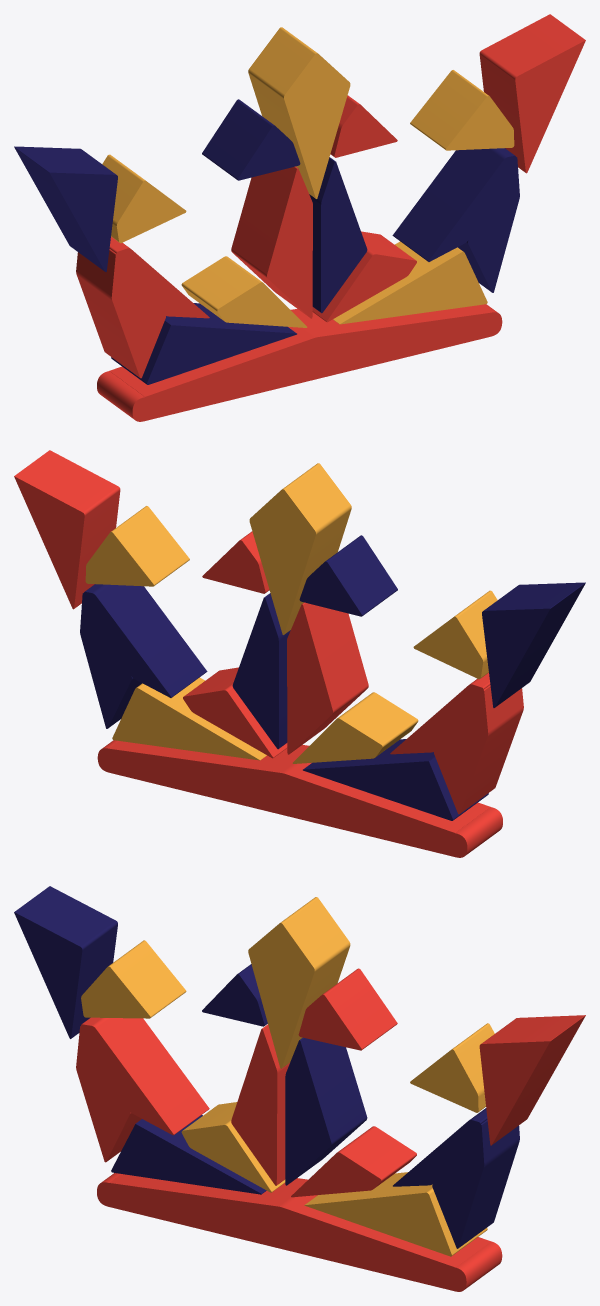
File: QHacksCrown.gltf
3 renders of one model, top to bottom at view 1: azimuth 30°, elevation 25°; view 2: azimuth 150°, elevation 25°; view 3: azimuth 330°, elevation 25°, orthographic.
Visible parts, largest first — view 1: Rectangle 21, Rectangle 10, Rectangle 4, Rectangle 12, Rectangle 20, Rectangle 2, Rectangle 16, Rectangle 19, Rectangle 14, Rectangle, Rectangle 5, Rectangle 6 (+7 smaller); view 2: Rectangle 21, Rectangle 10, Rectangle 4, Rectangle 12, Rectangle 20, Rectangle 2, Rectangle 16, Rectangle 19, Rectangle 14, Rectangle, Rectangle 5, Rectangle 6 (+7 smaller); view 3: Rectangle 21, Rectangle 10, Rectangle 16, Rectangle 6, Rectangle 18, Rectangle 4, Rectangle 20, Rectangle 3, Rectangle, Rectangle 12, Rectangle 17, Rectangle 14 (+7 smaller).
Boxes of the visible parts, x1=… form: Rectangle 21: x1=97, y1=304, x2=502, y2=421; Rectangle 10: x1=248, y1=27, x2=350, y2=198; Rectangle 4: x1=479, y1=14, x2=585, y2=173; Rectangle 12: x1=231, y1=166, x2=312, y2=318; Rectangle 20: x1=109, y1=305, x2=490, y2=396; Rectangle 2: x1=392, y1=148, x2=515, y2=261; Rectangle 16: x1=14, y1=146, x2=117, y2=271; Rectangle 19: x1=76, y1=249, x2=165, y2=378; Rectangle 14: x1=111, y1=303, x2=296, y2=384; Rectangle: x1=333, y1=241, x2=487, y2=324; Rectangle 5: x1=410, y1=70, x2=514, y2=150; Rectangle 6: x1=309, y1=157, x2=367, y2=313; Rectangle 21: x1=97, y1=740, x2=502, y2=857; Rectangle 10: x1=249, y1=463, x2=351, y2=634; Rectangle 4: x1=14, y1=450, x2=120, y2=609; Rectangle 12: x1=287, y1=602, x2=368, y2=754; Rectangle 20: x1=109, y1=741, x2=490, y2=832; Rectangle 2: x1=84, y1=584, x2=207, y2=697; Rectangle 16: x1=482, y1=582, x2=585, y2=707; Rectangle 19: x1=434, y1=685, x2=523, y2=814; Rectangle 14: x1=303, y1=739, x2=488, y2=820; Rectangle: x1=112, y1=677, x2=266, y2=760; Rectangle 5: x1=85, y1=506, x2=189, y2=586; Rectangle 6: x1=232, y1=593, x2=290, y2=749; Rectangle 21: x1=97, y1=1173, x2=502, y2=1291; Rectangle 10: x1=248, y1=897, x2=350, y2=1068; Rectangle 16: x1=14, y1=886, x2=117, y2=1038; Rectangle 6: x1=285, y1=1037, x2=367, y2=1185; Rectangle 18: x1=81, y1=1017, x2=209, y2=1135; Rectangle 4: x1=479, y1=1015, x2=585, y2=1145; Rectangle 20: x1=110, y1=1174, x2=490, y2=1267; Rectangle 3: x1=432, y1=1119, x2=519, y2=1248; Rectangle: x1=304, y1=1172, x2=487, y2=1256; Rectangle 12: x1=231, y1=1024, x2=289, y2=1185; Rectangle 17: x1=81, y1=940, x2=186, y2=1018; Rectangle 14: x1=111, y1=1115, x2=266, y2=1194.
Bounding box in the file's own units: 4.34 × 2.52 × 0.5.
